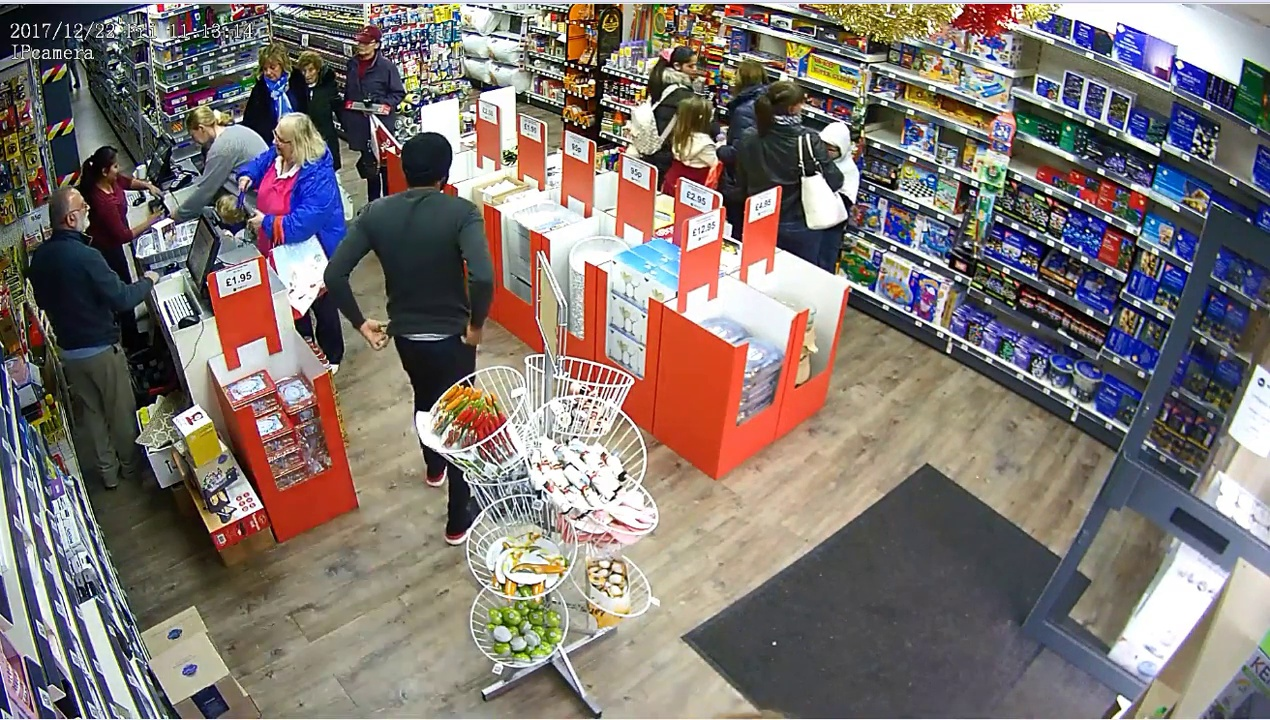face: (269, 123, 302, 159), (253, 56, 285, 85), (297, 59, 321, 85), (355, 32, 373, 61)
